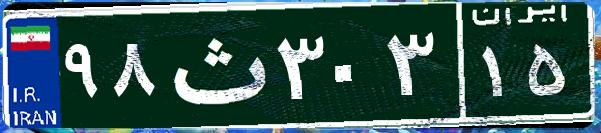0: (330, 28, 385, 110)
1: (475, 38, 525, 113)
3: (385, 28, 445, 110), (273, 28, 330, 110)
5: (525, 38, 570, 115)
8: (110, 28, 158, 105)
9: (57, 26, 110, 107)
ث: (158, 15, 273, 115)
